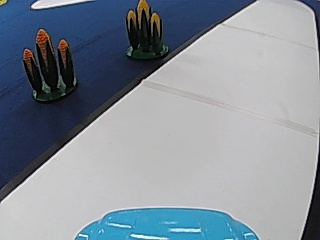corn: (21, 29, 79, 100), (123, 0, 168, 60)
